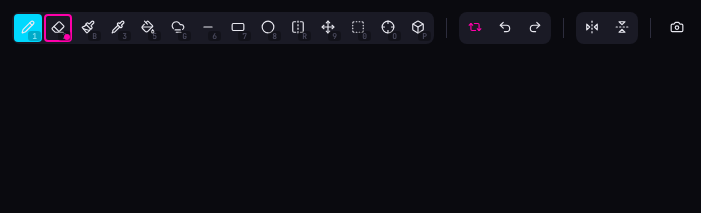
Test: opening the menu › a bare double click opens it too — the mouse route
The width and height of the screenshot is (701, 213).
Double-click the button "3".
double_click(118, 28)  # box [104,14,132,42]
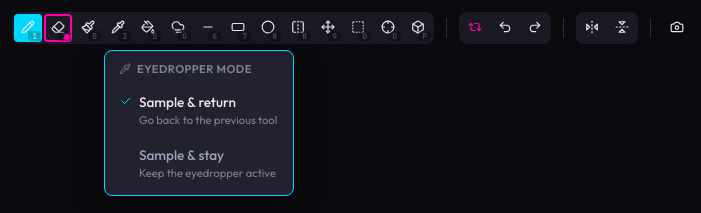
Result: the menu "Eyedropper mode" is shown at [104,50,294,196]
